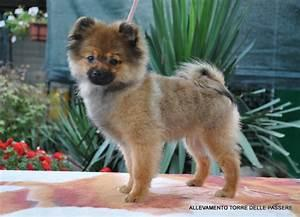dog: (65, 15, 242, 203)
